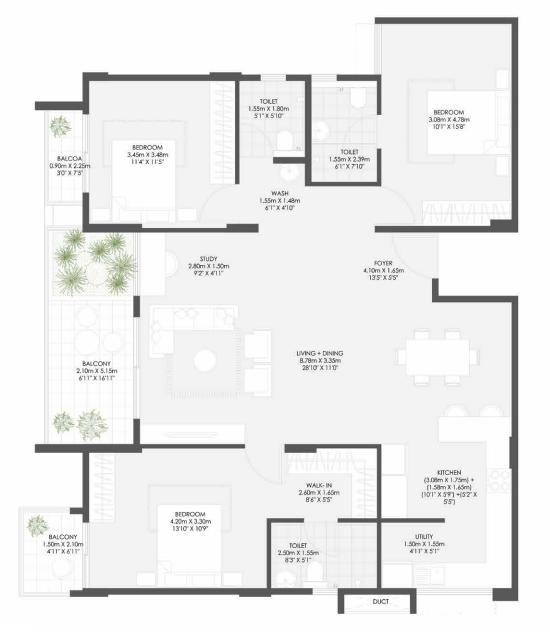Balcony: (50, 229, 137, 444), (21, 511, 86, 595)
Bed: (425, 90, 512, 156), (155, 503, 222, 588), (114, 140, 177, 226)
Bedroom: (380, 23, 517, 225), (89, 449, 269, 590), (85, 75, 239, 228)
Dining Room: (331, 299, 508, 421)
Dining table: (382, 322, 494, 394)
Foyer: (258, 235, 436, 296)
Kitchen: (384, 418, 511, 514)
Living Room: (143, 299, 328, 445)
Sofa: (140, 299, 178, 365), (164, 305, 238, 330), (244, 330, 271, 397), (245, 330, 271, 362)
Wardrobe: (210, 79, 239, 187), (288, 448, 375, 473), (422, 201, 513, 223), (351, 451, 380, 517), (90, 451, 115, 523)
balcoa: (46, 107, 84, 205)
commode: (348, 86, 368, 110), (307, 559, 325, 582), (277, 133, 292, 151)
door: (390, 234, 436, 280), (197, 186, 239, 226), (246, 449, 284, 486), (381, 186, 417, 223), (341, 114, 378, 150), (303, 521, 336, 558)
duct: (343, 595, 410, 616)
sink: (413, 564, 447, 589), (310, 119, 331, 142), (279, 166, 301, 184), (277, 570, 297, 588)
stove: (486, 467, 514, 495)
study: (140, 231, 257, 299)
toilet: (306, 75, 379, 185), (272, 519, 376, 592), (241, 78, 306, 161)
tv: (139, 427, 245, 450)
utility: (384, 523, 514, 589)
walkin: (271, 449, 377, 520)
wash: (244, 165, 305, 222)
